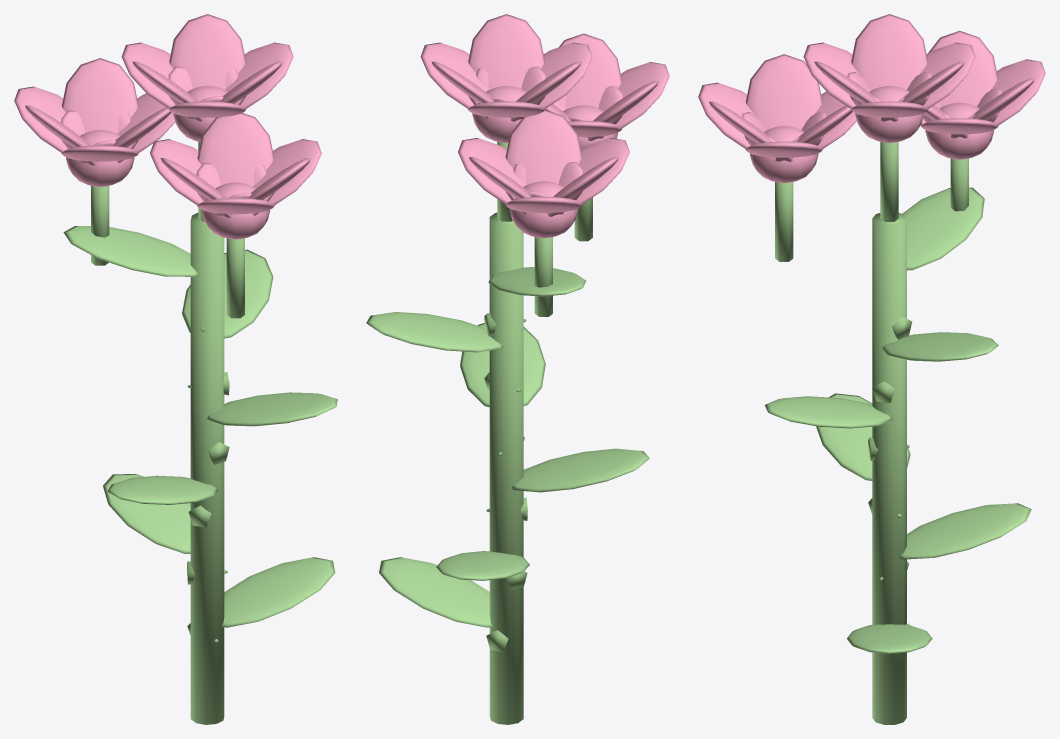
The model's file is VCrop_Rose_5.fbx.
3 views of the same model, side by side, from view 1: azimuth 30°, elevation 25°; view 2: azimuth 150°, elevation 25°; view 3: azimuth 270°, elevation 25° (orthographic).
Visible parts, largest first — view 1: VCrop_Rose_5; view 2: VCrop_Rose_5; view 3: VCrop_Rose_5.
Boxes of the visible parts, x1,y1,x2,y2 form: VCrop_Rose_5: [14, 14, 337, 724]; VCrop_Rose_5: [366, 14, 669, 724]; VCrop_Rose_5: [698, 14, 1045, 724].
Bounding box in the file's own units: 0.2695 × 0.6436 × 0.3028.
